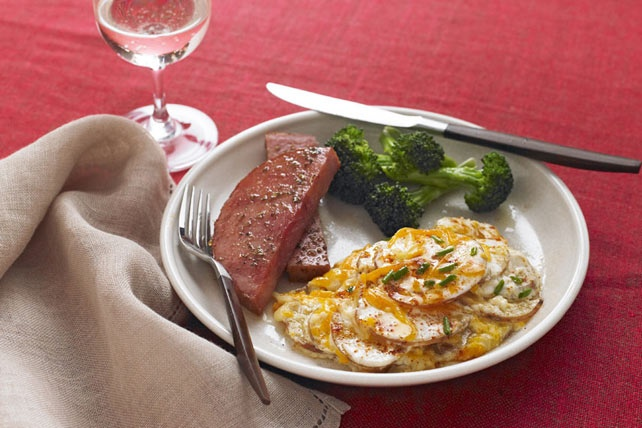background: (212, 82, 545, 247), (97, 0, 211, 45)
